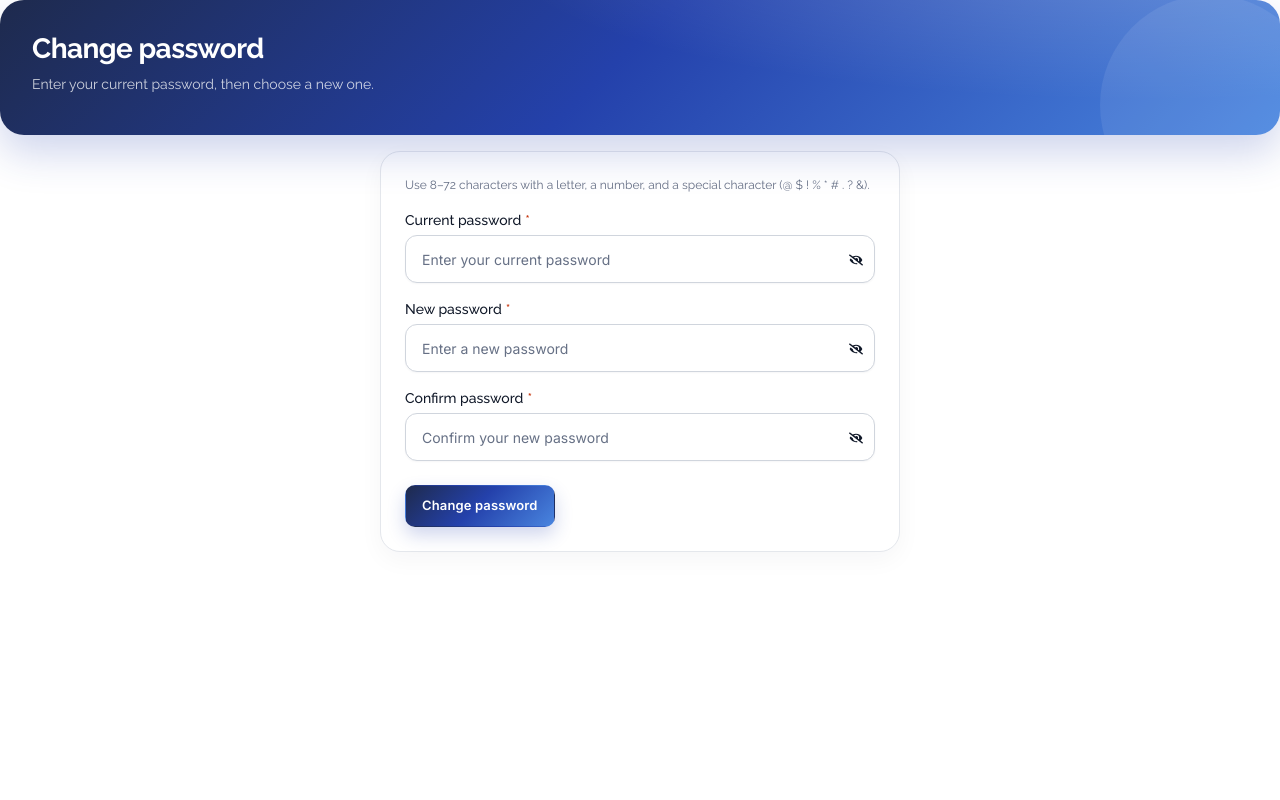
it: ChangePasswordPage › blocks submit when passwords do not match
Type "OldPassword1!" into the password field labelled "Current password" at {"x": 640, "y": 259}, box top-left (405, 235), bottom-right (875, 283)
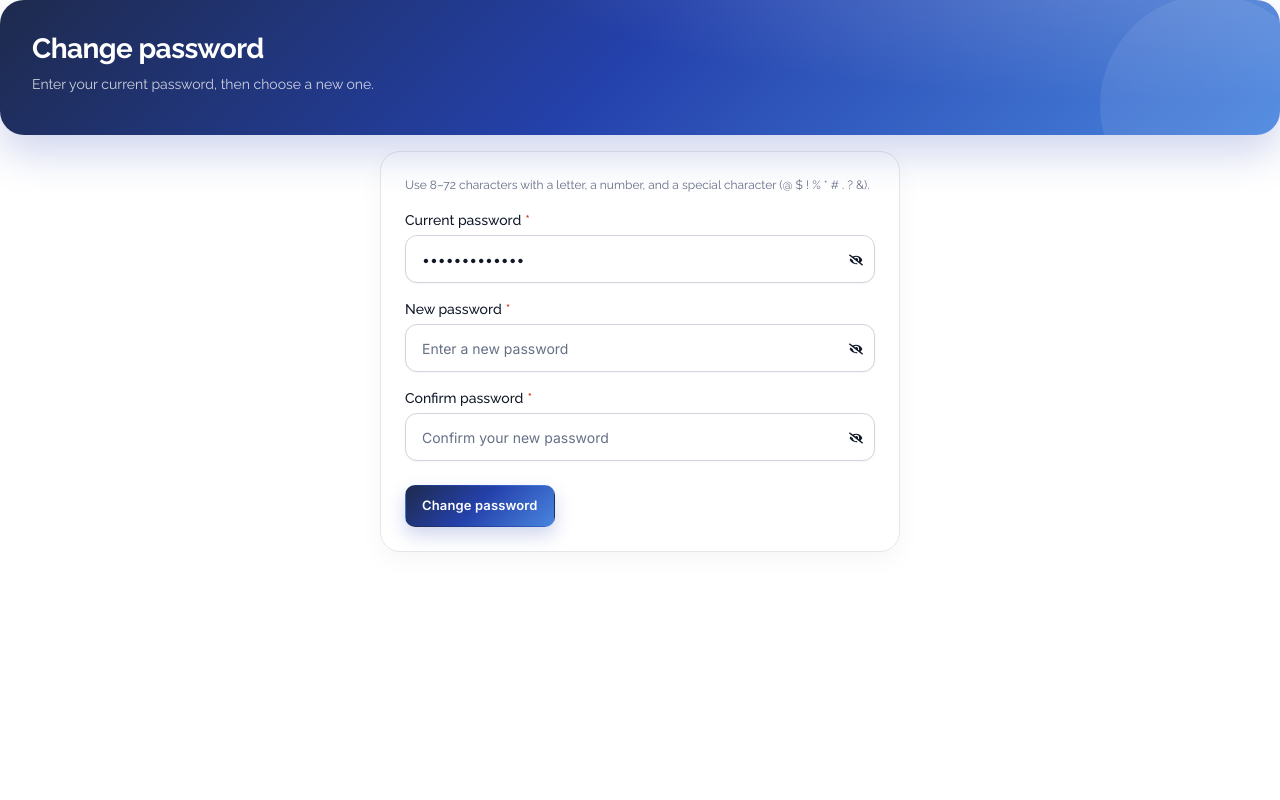
Type "NewPassword1!" into the password field labelled "New password" at {"x": 640, "y": 348}, box top-left (405, 324), bottom-right (875, 372)
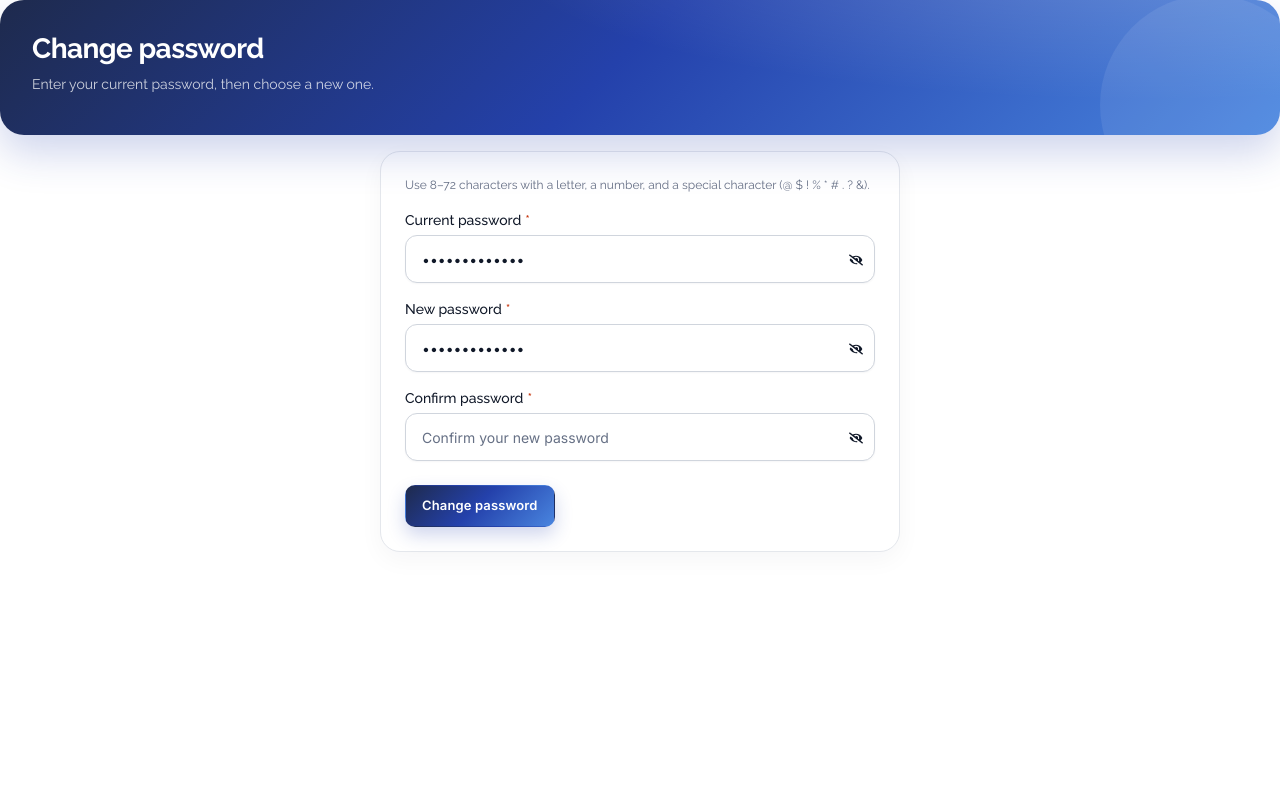
Type "Mismatch1!" into the password field labelled "Confirm password" at {"x": 640, "y": 437}, box top-left (405, 413), bottom-right (875, 461)
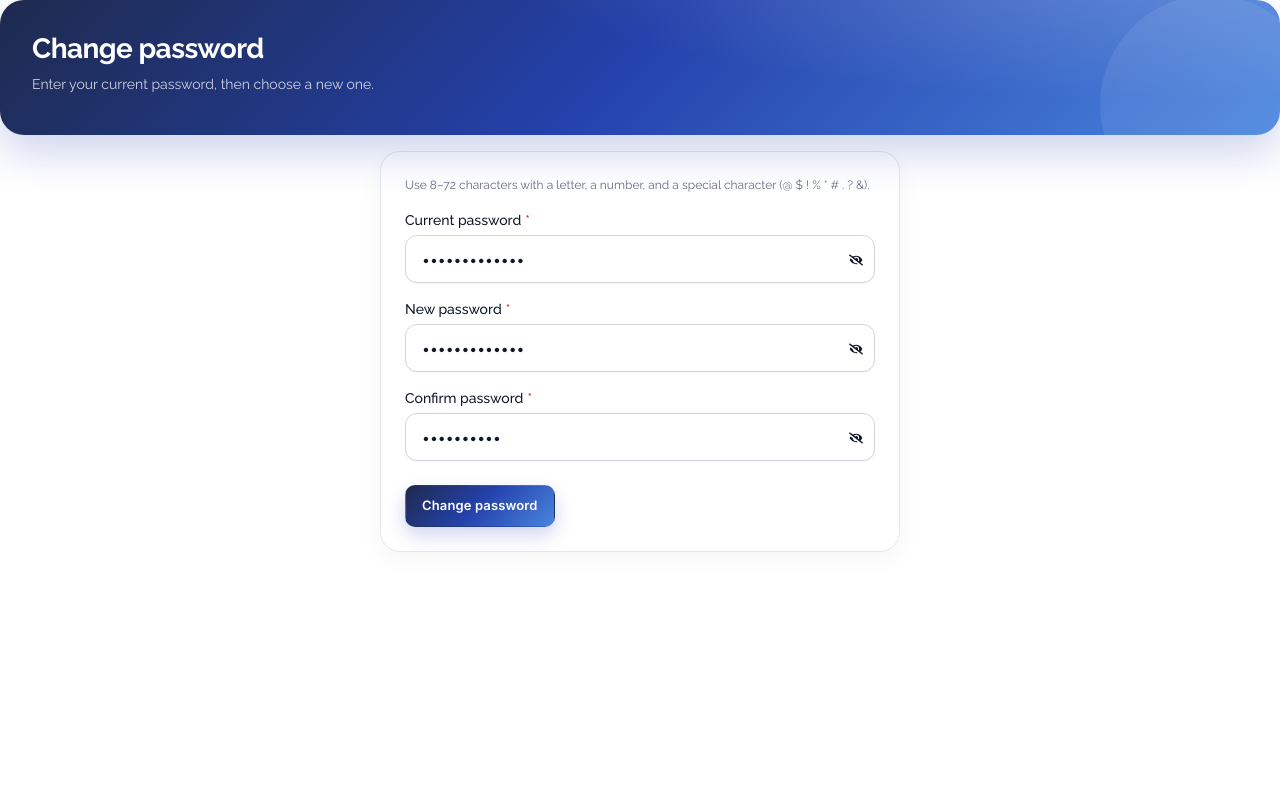
Click the button "Change password" at {"x": 480, "y": 506}, box top-left (405, 485), bottom-right (555, 526)
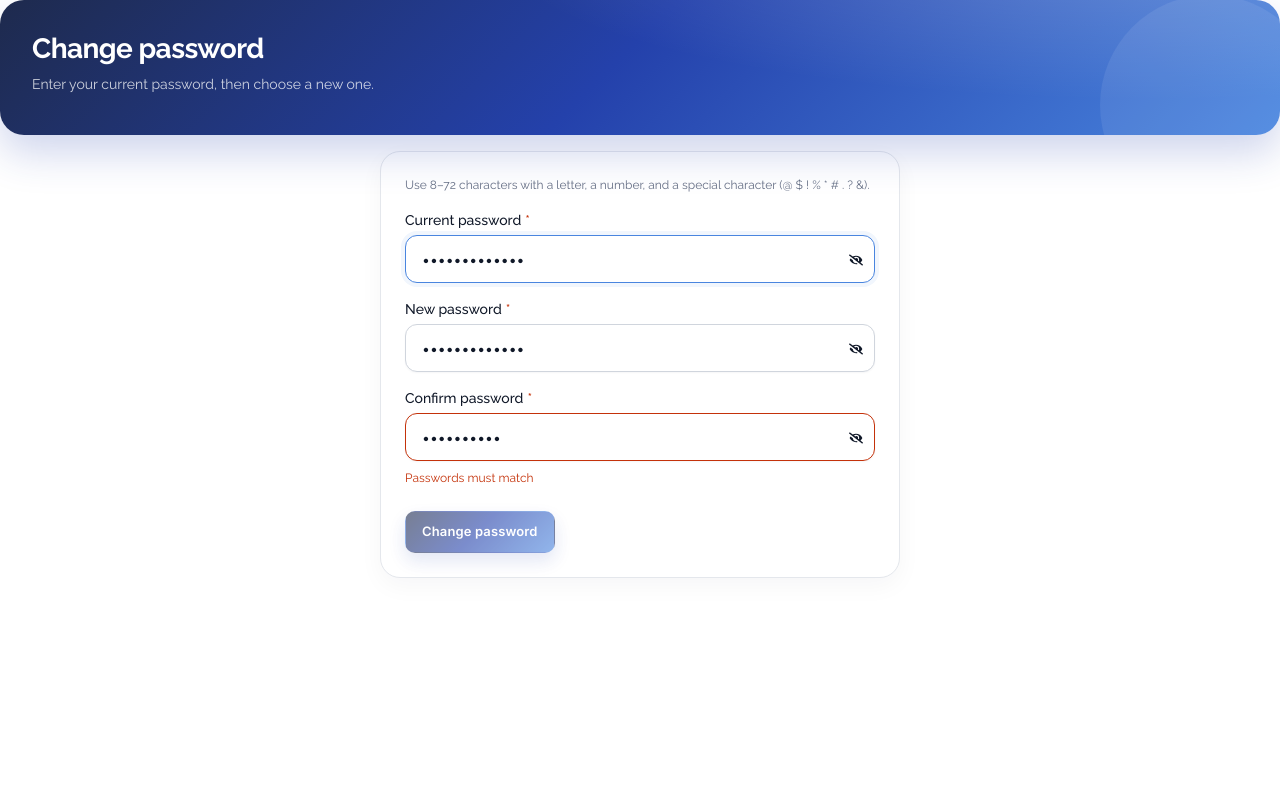
Now the text "Passwords must match" is shown, box top-left (405, 471), bottom-right (534, 485)
